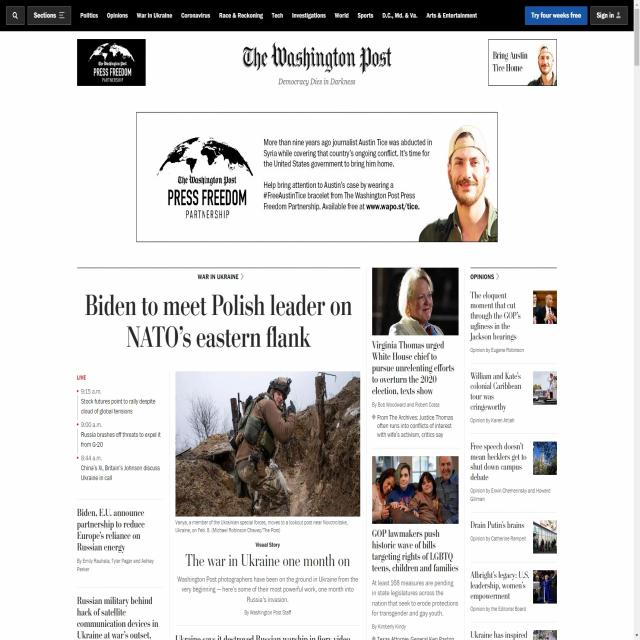menu-bar: (2, 4, 483, 25)
